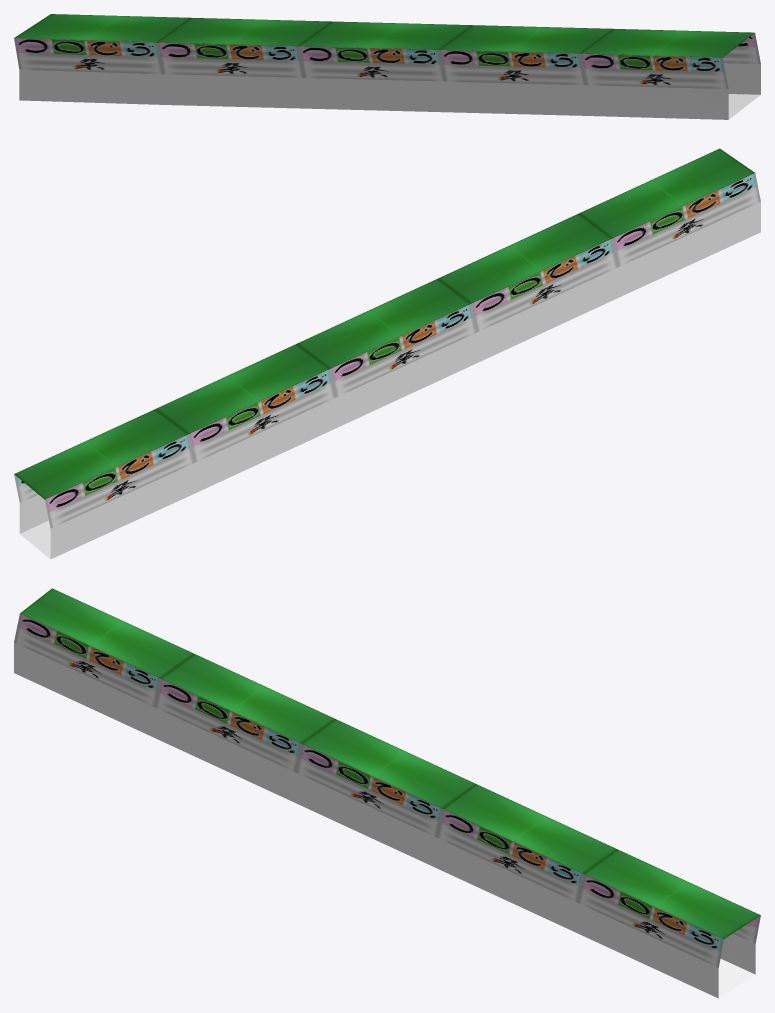
File: CourseWinter_Wall_L_3.fbx
The picture shows the model from 3 angles, top to bottom: view 1: azimuth 90°, elevation 25°; view 2: azimuth 150°, elevation 25°; view 3: azimuth 270°, elevation 25°; orthographic projection.
Parts seen in each view (by area): view 1: polySurface418; view 2: polySurface418; view 3: polySurface418.
Part boxes in pixels (x1,y1,x2,y2): polySurface418: [14, 14, 760, 119]; polySurface418: [14, 148, 760, 559]; polySurface418: [14, 588, 760, 998].
Size of the model in its own units: 13.86 by 6.98 by 22.03.
Materials: 1 (1 with a texture image).
